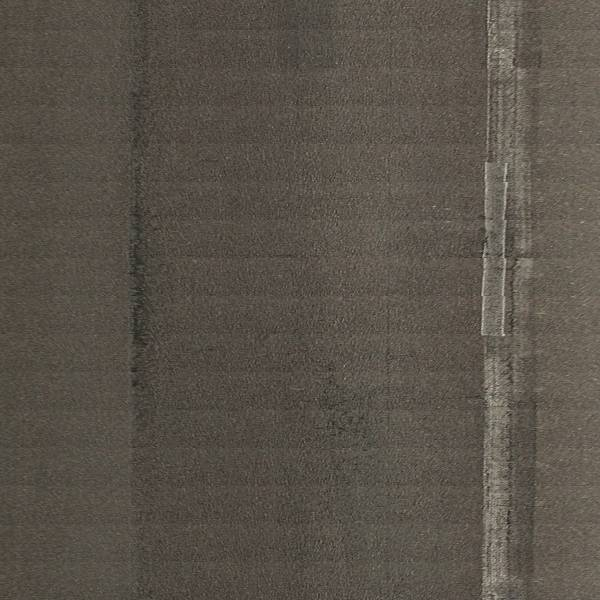road_damage: (475, 197, 524, 559), (315, 370, 383, 488), (127, 194, 161, 403)
